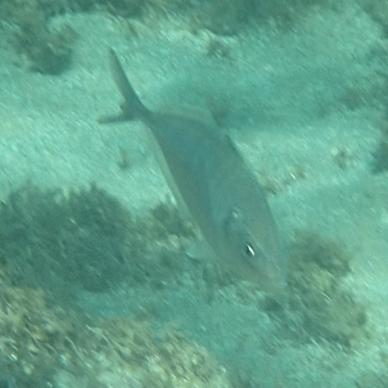Carangidae -Jacks-: (92, 37, 300, 306)
